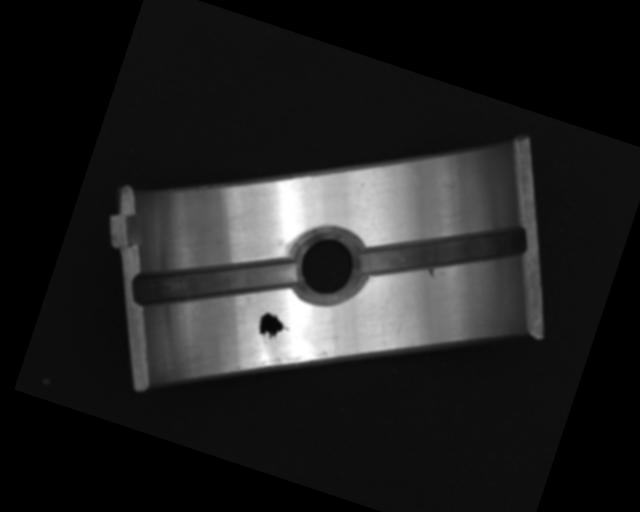blot: (251, 309, 293, 351)
bruise: (424, 265, 437, 279)
gap: (357, 184, 530, 321), (128, 218, 299, 349)
hole: (285, 220, 372, 311)
